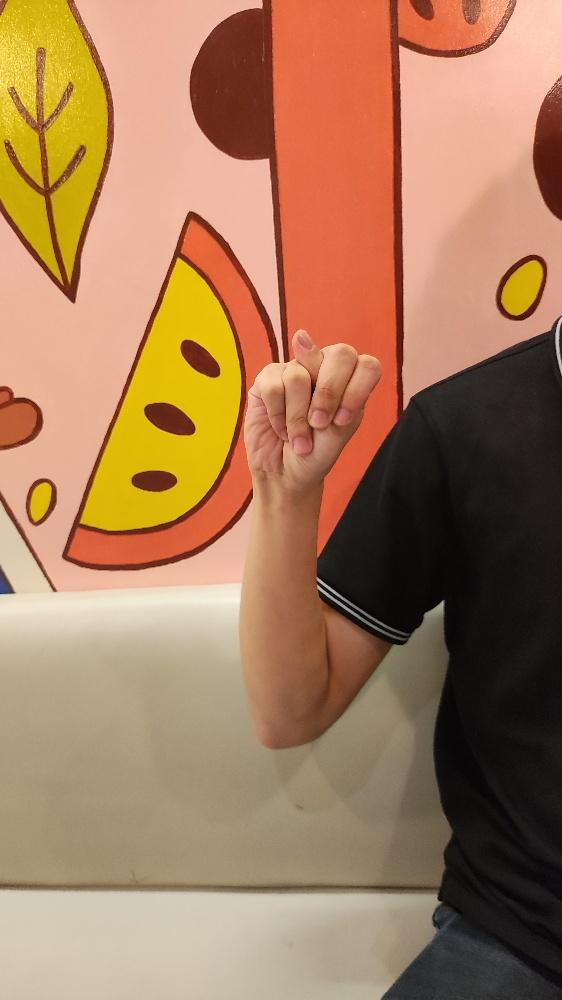n: (242, 327, 383, 486)
